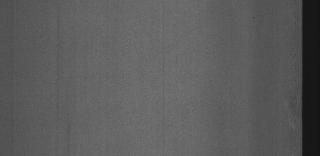inclusion: (251, 12, 263, 24)
water spot: (280, 84, 300, 134)
